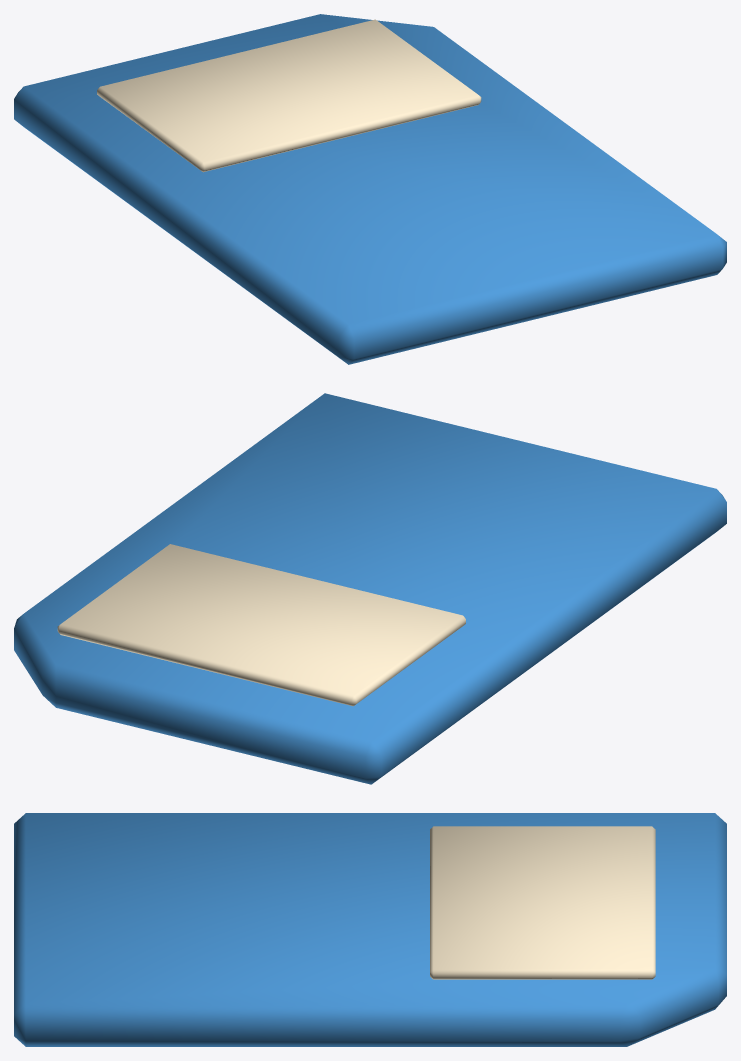
File: cargo_sd_card_v2.glb
3 renders of one model, top to bottom at view 1: azimuth 30°, elevation 25°; view 2: azimuth 150°, elevation 25°; view 3: azimuth 270°, elevation 25°, orthographic. The views are drawn at different scales.
Visible parts, largest first — view 1: CargoSdCard; view 2: CargoSdCard; view 3: CargoSdCard.
Part boxes in pixels (<box>): CargoSdCard: <box>14,14,726,364</box>; CargoSdCard: <box>14,393,726,784</box>; CargoSdCard: <box>14,813,726,1046</box>.
Bounding box in the file's own units: 0.08 × 0.01 × 0.12.
